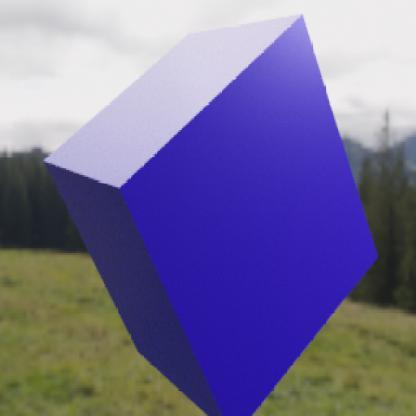cube: (43, 12, 378, 415)
